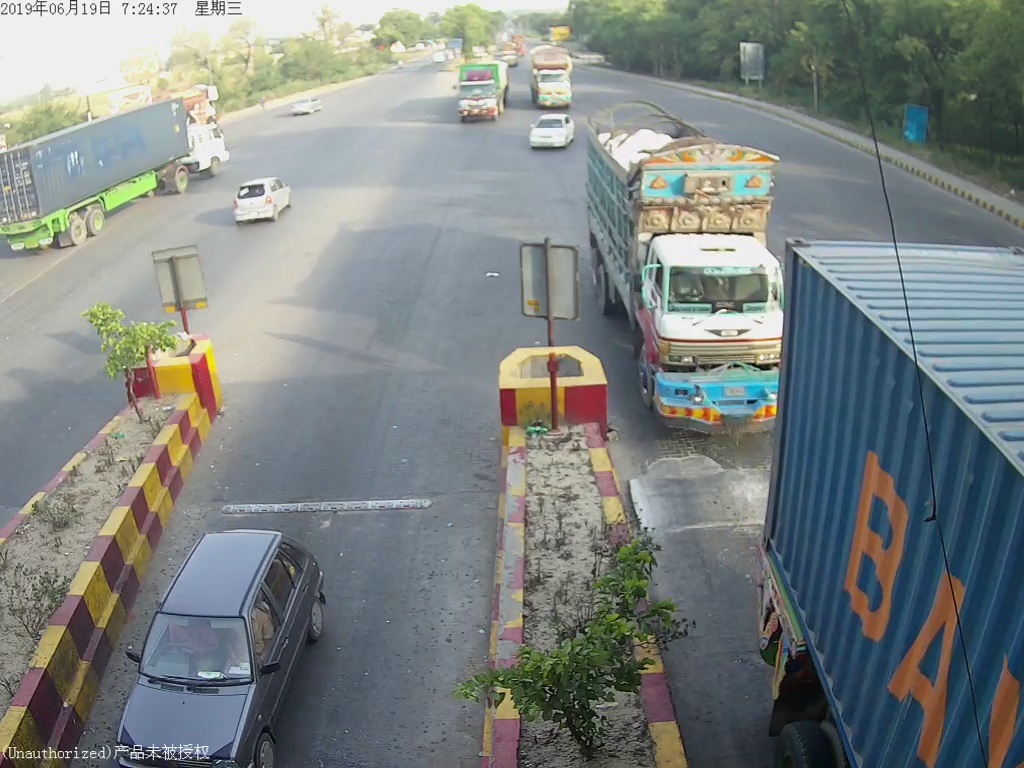Cat-1: (126, 540, 340, 768), (527, 119, 574, 153)
Cat-4: (624, 107, 775, 429)
